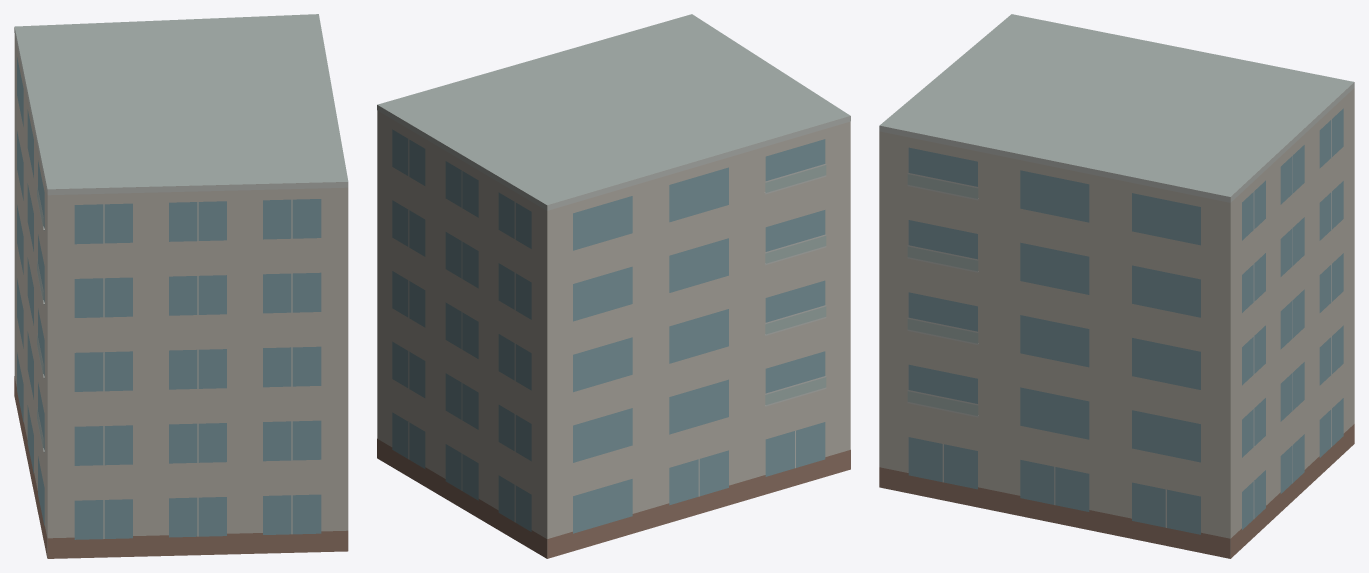
The model's file is survey-upis-32628196.glb.
3 views of the same model, side by side, from view 1: azimuth 30°, elevation 25°; view 2: azimuth 150°, elevation 25°; view 3: azimuth 270°, elevation 25° (orthographic). The views are drawn at different scales.
Visible parts, largest first — view 1: survey-upis-32628196.tmp; view 2: survey-upis-32628196.tmp; view 3: survey-upis-32628196.tmp.
Part boxes in pixels (<box>): survey-upis-32628196.tmp: <box>14,14,348,558</box>; survey-upis-32628196.tmp: <box>377,14,850,558</box>; survey-upis-32628196.tmp: <box>879,14,1354,558</box>.
Bounding box in the file's own units: 16.56 × 15.25 × 18.16.
